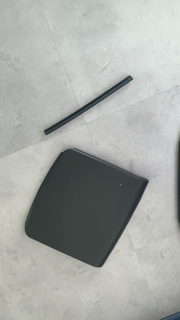Seat: (23, 146, 153, 272)
i pipe: (44, 74, 135, 140)
